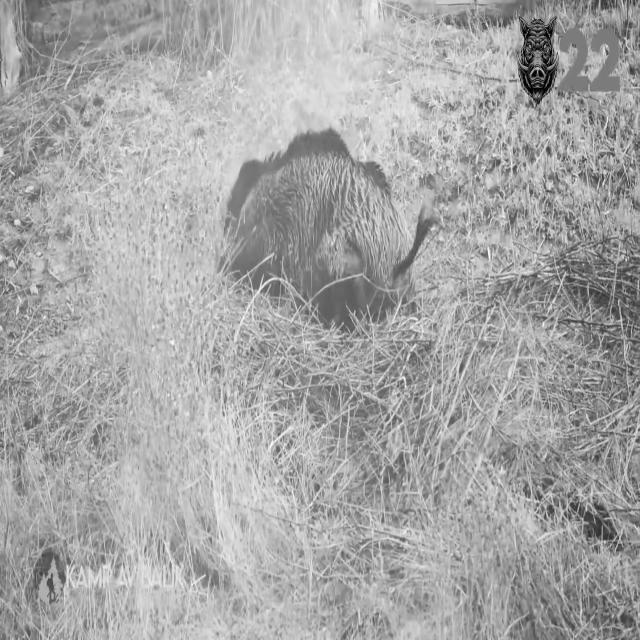boar: (222, 128, 433, 326)
